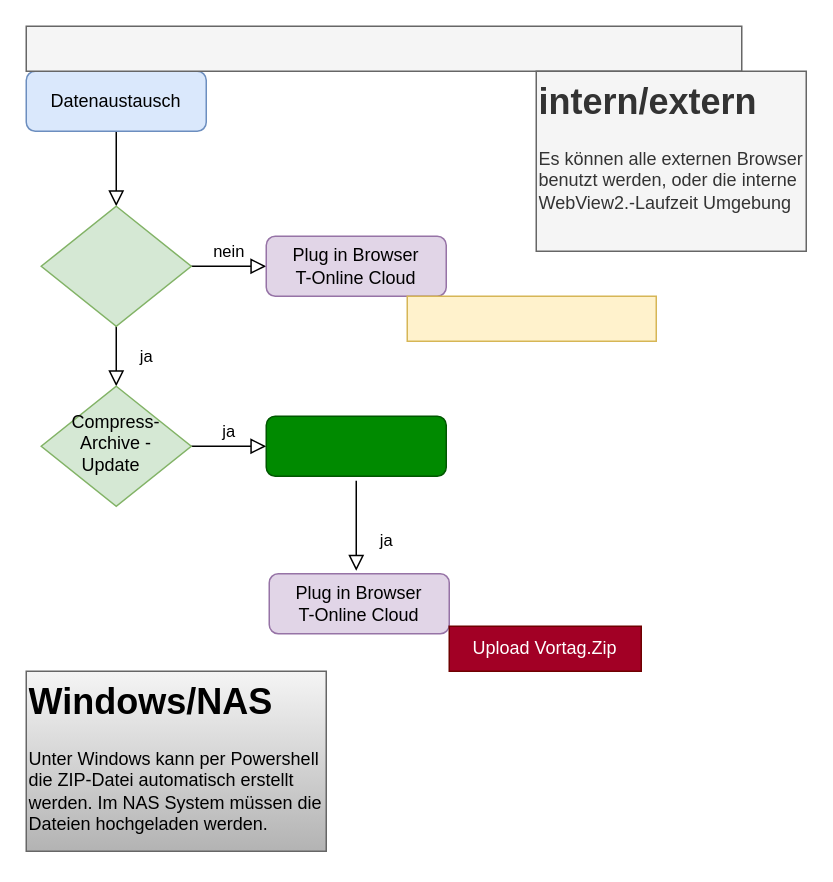
Some shapes in this 833 by 882 pixel diagram are drawn without their labels. The shapes that lost their labels are listed below. From the top down, each one's centre as x and y in pixels, then its label:
[383,48]: Programm und Datenaustausch über Magenta Cloud
[115,265]: ZIP-erstellen?
[531,318]: Download Programm
[355,445]: Vortag.Zip
